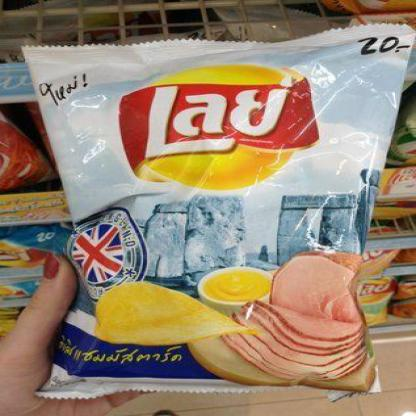potatochip: (5, 16, 415, 405)
